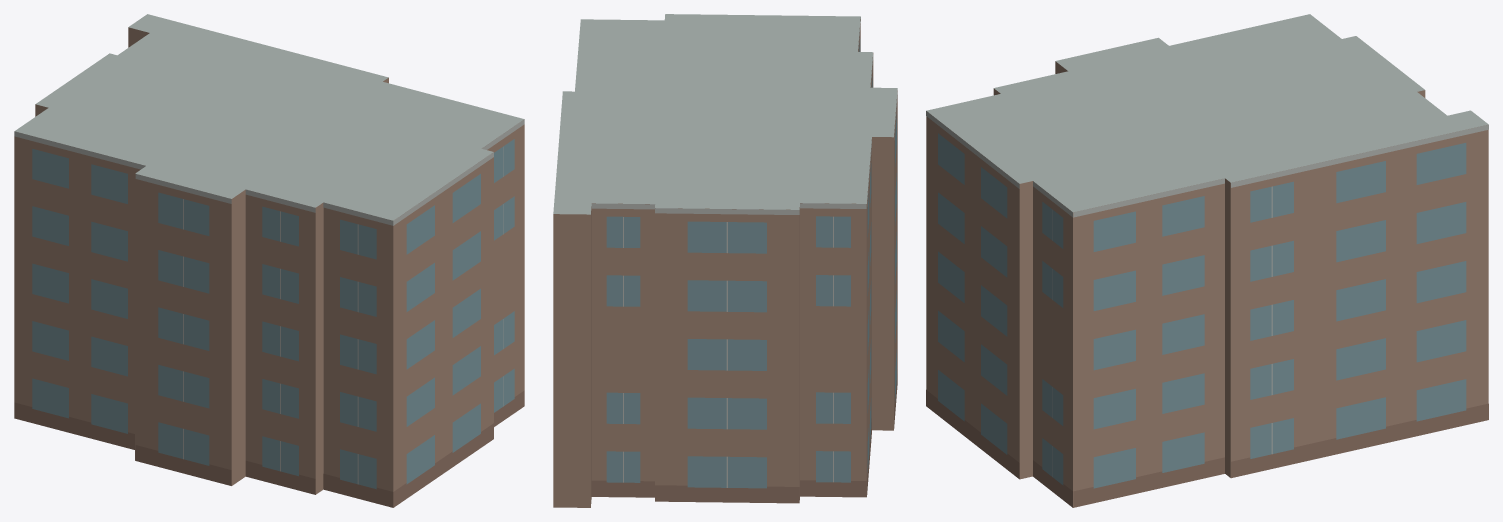
Rendered from survey-upis-32983326.glb.
The picture shows the model from 3 angles, left to right: view 1: azimuth 30°, elevation 25°; view 2: azimuth 150°, elevation 25°; view 3: azimuth 270°, elevation 25°; orthographic projection. The views are drawn at different scales.
Visible parts, largest first — view 1: survey-upis-32983326.tmp; view 2: survey-upis-32983326.tmp; view 3: survey-upis-32983326.tmp.
Part boxes in pixels (<box>): survey-upis-32983326.tmp: <box>14,14,524,507</box>; survey-upis-32983326.tmp: <box>553,14,897,507</box>; survey-upis-32983326.tmp: <box>926,14,1488,507</box>.
Size of the model in its own units: 19.73 by 13.7 by 23.65.
